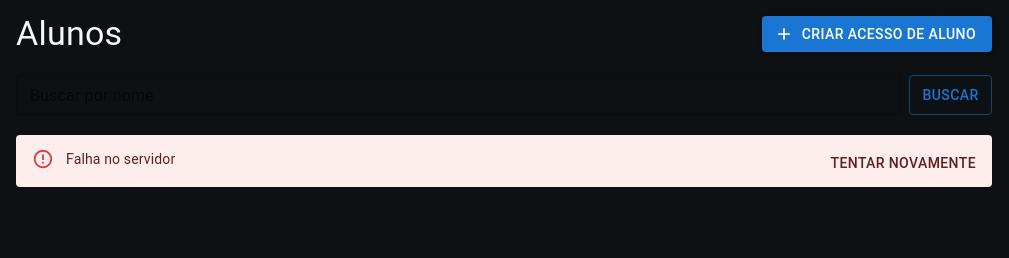
Scenario: AdminStudentsView listing › shows the API error message and retries
Check: the message shows "Falha no servidor", box x1=66 y1=151 x2=175 y2=167
Click the button "Tentar novamente". click: coordinates (903, 163)
box: x1=822 y1=145 x2=984 y2=182
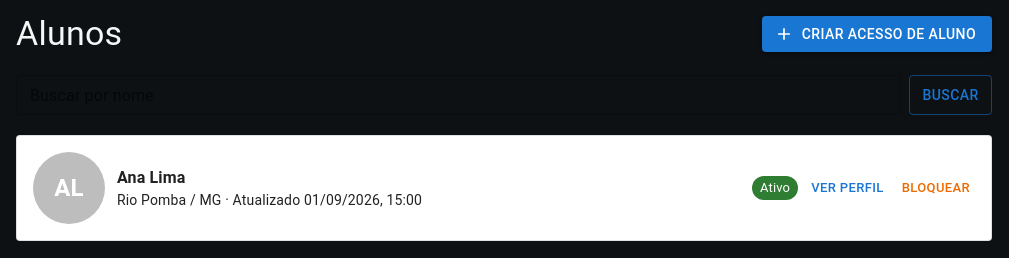
Check: the text "Ana Lima" is shown, box x1=117 y1=168 x2=186 y2=187
Check: the message "Falha no servidor Tentar novamente" is gone
